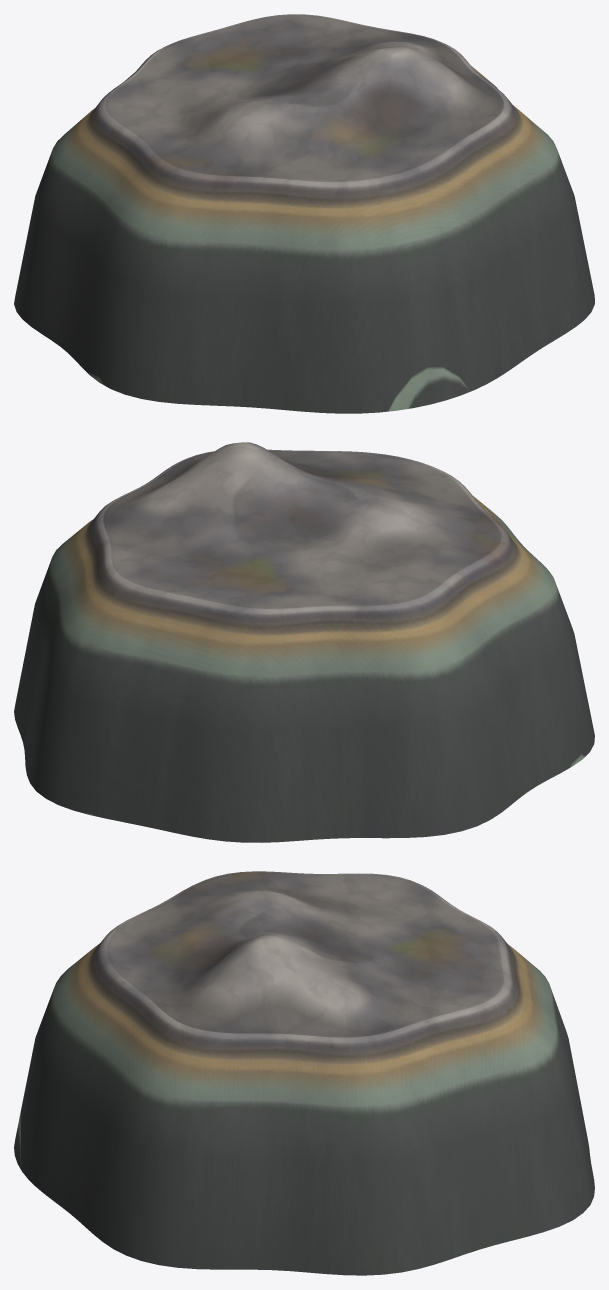
The model's file is rocky_0.glb.
3 views of the same model, one above another, from view 1: azimuth 30°, elevation 25°; view 2: azimuth 150°, elevation 25°; view 3: azimuth 270°, elevation 25° (orthographic). The views are drawn at different scales.
Parts seen in each view (by area): view 1: rocky_0; view 2: rocky_0; view 3: rocky_0.
Part boxes in pixels (x1=…): rocky_0: x1=14, y1=14, x2=594, y2=413; rocky_0: x1=14, y1=442, x2=594, y2=842; rocky_0: x1=14, y1=871, x2=594, y2=1275.
Bounding box in the file's own units: 31.07 × 14.99 × 31.58.
1 material, 1 textured.
